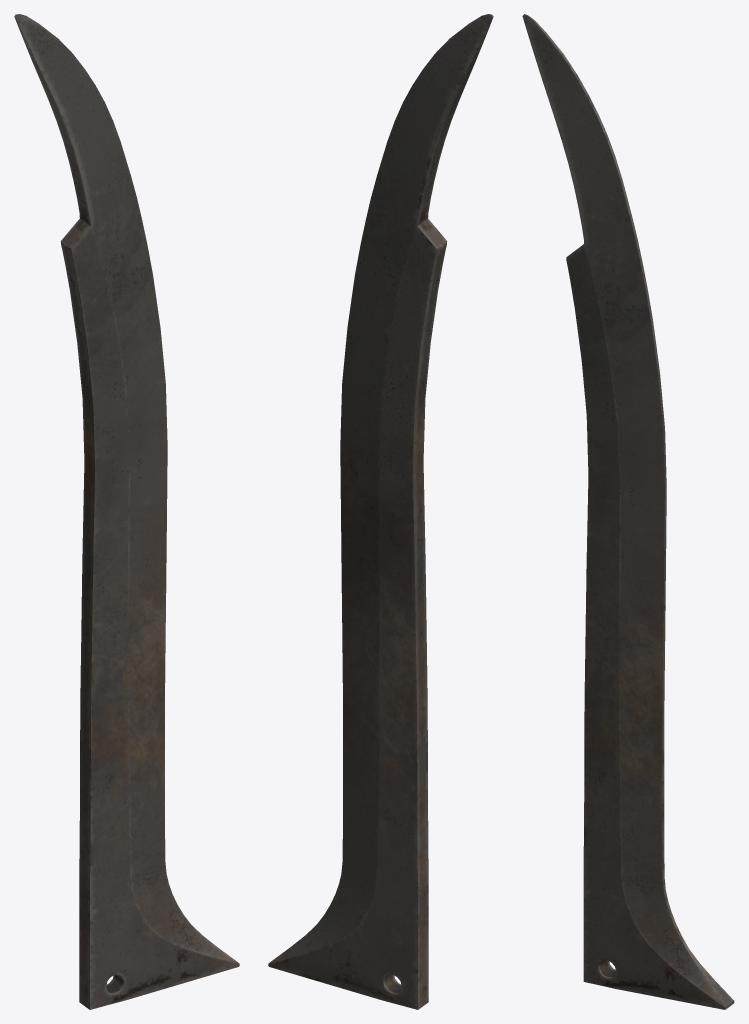
The model's file is wm_mordor_set1_sword_a01_blade.fbx.
3 views of the same model, side by side, from view 1: azimuth 30°, elevation 25°; view 2: azimuth 150°, elevation 25°; view 3: azimuth 330°, elevation 25° (orthographic). The views are drawn at different scales.
Visible parts, largest first — view 1: wm_mordor_set1_sword_a01_blade; view 2: wm_mordor_set1_sword_a01_blade; view 3: wm_mordor_set1_sword_a01_blade.
Part boxes in pixels (x1=…): wm_mordor_set1_sword_a01_blade: x1=14, y1=14, x2=239, y2=1009; wm_mordor_set1_sword_a01_blade: x1=268, y1=14, x2=493, y2=1009; wm_mordor_set1_sword_a01_blade: x1=522, y1=14, x2=734, y2=1009.
Size of the model in its own units: 0.1696 by 0.015 by 0.7426.
1 material, 1 textured.
